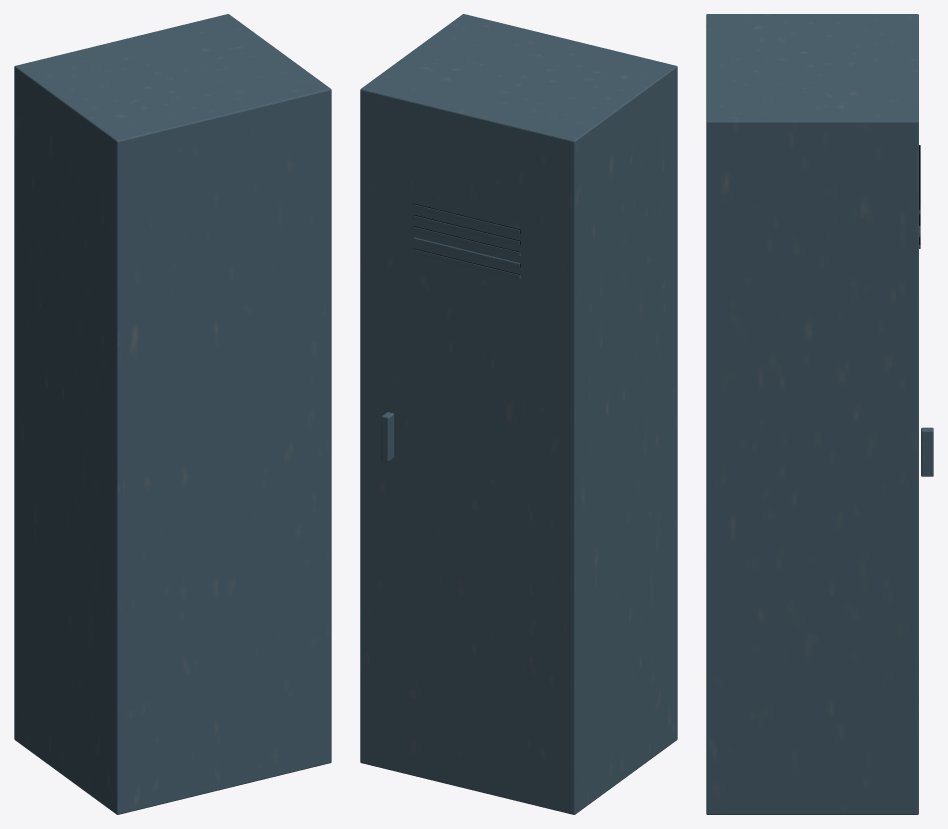
Rendered from locker.meshopt.glb.
The picture shows the model from 3 angles, left to right: view 1: azimuth 30°, elevation 25°; view 2: azimuth 150°, elevation 25°; view 3: azimuth 270°, elevation 25°; orthographic projection. The views are drawn at different scales.
Visible parts, largest first — view 1: body_back, body_left, body_top, body_right, body_bottom; view 2: door, body_left, body_top, body_right, body_bottom, door_handle; view 3: body_right, body_top, door_handle.
Part boxes in pixels (<box>): body_back: <box>123,97,325,807</box>; body_left: <box>14,66,123,814</box>; body_top: <box>15,14,331,146</box>; body_right: <box>326,89,331,763</box>; body_bottom: <box>118,757,331,814</box>; door: <box>363,93,571,811</box>; body_left: <box>568,66,677,814</box>; body_top: <box>360,14,676,146</box>; body_right: <box>360,89,365,763</box>; body_bottom: <box>360,757,573,814</box>; door_handle: <box>381,412,394,461</box>; body_right: <box>706,119,918,814</box>; body_top: <box>706,14,918,127</box>; door_handle: <box>921,427,933,476</box>.
Bounding box in the file's own units: 0.6001 × 1.8 × 0.535.
Materials: 1 (1 with a texture image).
